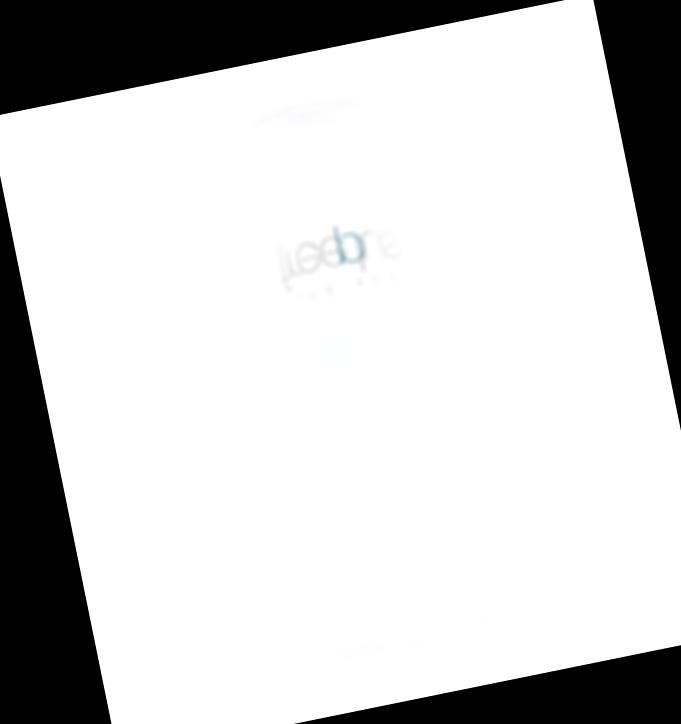cosmetic: (201, 78, 541, 681)
